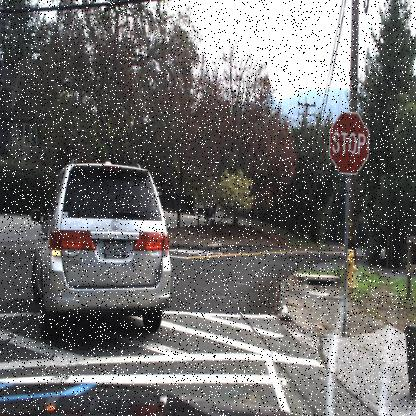car: (34, 156, 174, 344)
